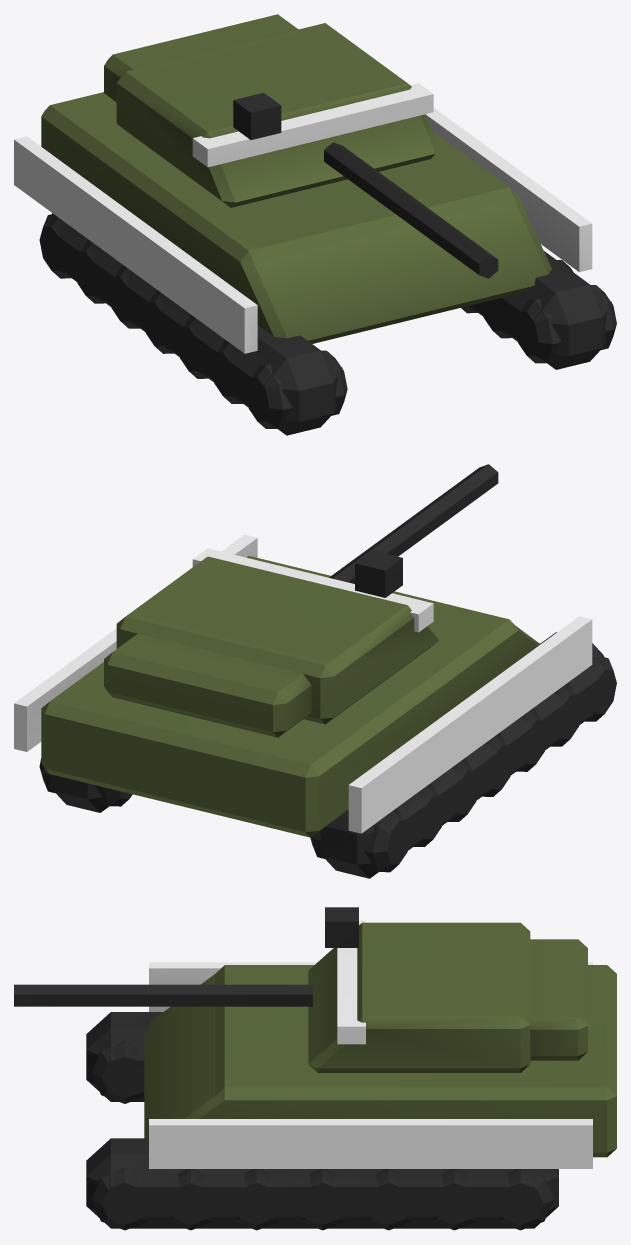
The model's file is ua-leopard-2a4.glb.
The picture shows the model from 3 angles, top to bottom: view 1: azimuth 30°, elevation 25°; view 2: azimuth 150°, elevation 25°; view 3: azimuth 270°, elevation 25°; orthographic projection. The views are drawn at different scales.
Parts seen in each view (by area): view 1: ua-leopard-2a4, turret; view 2: ua-leopard-2a4, turret; view 3: ua-leopard-2a4, turret.
Boxes of the visible parts, x1,y1,x2,y2 form: ua-leopard-2a4: (14,92,616,435); turret: (104,14,498,278); ua-leopard-2a4: (14,534,616,878); turret: (104,464,498,737); ua-leopard-2a4: (86,962,616,1230); turret: (14,907,587,1072).
Bounding box in the file's own units: 0.8 × 0.49 × 1.25.
